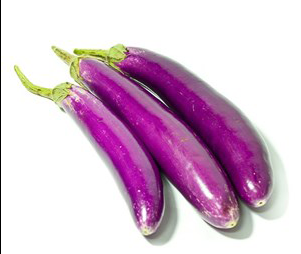catim: (53, 42, 242, 232), (92, 36, 278, 211), (11, 62, 167, 238)
